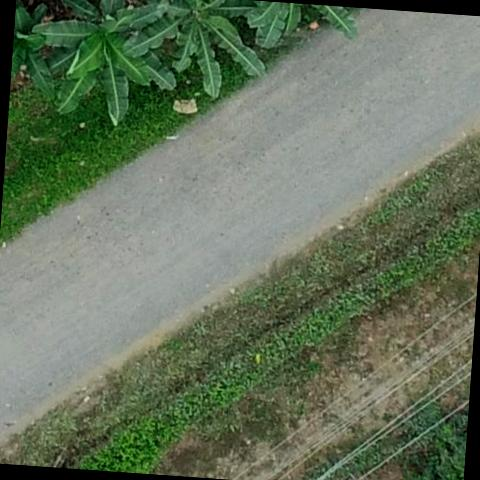Banana-plant: (30, 0, 183, 128), (120, 0, 273, 104), (10, 1, 68, 94)
